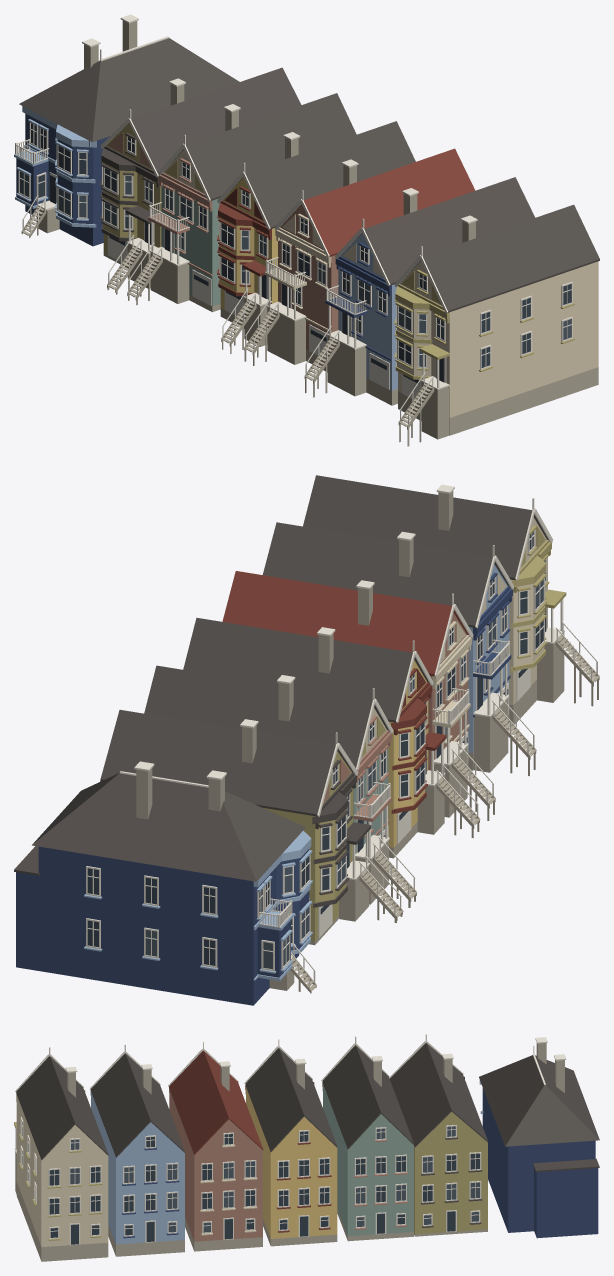
File: painted-ladies-near.glb
The picture shows the model from 3 angles, top to bottom: view 1: azimuth 30°, elevation 25°; view 2: azimuth 150°, elevation 25°; view 3: azimuth 270°, elevation 25°; orthographic projection. The views are drawn at different scales.
Visible parts, largest first — view 1: painted-ladies-0-roof, painted-ladies-0-trim, painted-ladies-0-cream, painted-ladies-0-base, painted-ladies-0-brick, painted-ladies-0-navy, painted-ladies-0-blue, painted-ladies-0-glass, painted-ladies-0-sage, painted-ladies-0-rose, painted-ladies-0-glow, painted-ladies-0-celadon (+1 smaller); view 2: painted-ladies-0-roof, painted-ladies-0-navy, painted-ladies-0-trim, painted-ladies-0-base, painted-ladies-0-brick, painted-ladies-0-sage, painted-ladies-0-glass, painted-ladies-0-blue, painted-ladies-0-cream, painted-ladies-0-rose, painted-ladies-0-glow, painted-ladies-0-yellow (+1 smaller); view 3: painted-ladies-0-roof, painted-ladies-0-navy, painted-ladies-0-trim, painted-ladies-0-cream, painted-ladies-0-rose, painted-ladies-0-blue, painted-ladies-0-base, painted-ladies-0-celadon, painted-ladies-0-sage, painted-ladies-0-yellow, painted-ladies-0-glass, painted-ladies-0-brick (+1 smaller).
Boxes of the visible parts, x1,y1,x2,y2 form: painted-ladies-0-roof: (19,38,599,312); painted-ladies-0-trim: (15,14,572,424); painted-ladies-0-cream: (163,149,598,417); painted-ladies-0-base: (21,20,598,446); painted-ladies-0-brick: (217,148,475,303); painted-ladies-0-navy: (16,114,391,360); painted-ladies-0-blue: (14,106,397,390); painted-ladies-0-glass: (31,123,571,383); painted-ladies-0-sage: (103,123,574,387); painted-ladies-0-rose: (108,132,338,350); painted-ladies-0-glow: (19,171,571,366); painted-ladies-0-celadon: (161,183,220,306); painted-ladies-0-roof: (14,475,549,907); painted-ladies-0-navy: (16,572,512,1005); painted-ladies-0-trim: (86,484,597,988); painted-ladies-0-base: (136,490,599,993); painted-ladies-0-brick: (222,571,469,813); painted-ladies-0-sage: (262,525,566,941); painted-ladies-0-glass: (87,532,546,965); painted-ladies-0-blue: (84,564,509,981); painted-ladies-0-cream: (361,517,547,765); painted-ladies-0-rose: (323,613,468,858); painted-ladies-0-glow: (145,560,545,969); painted-ladies-0-yellow: (388,660,428,847); painted-ladies-0-roof: (16,1043,599,1227); painted-ladies-0-navy: (90,1088,598,1238); painted-ladies-0-trim: (14,1034,566,1245); painted-ladies-0-cream: (16,1088,257,1247); painted-ladies-0-rose: (169,1082,408,1241); painted-ladies-0-blue: (91,1080,483,1244); painted-ladies-0-base: (15,1043,564,1261); painted-ladies-0-celadon: (323,1084,413,1236); painted-ladies-0-sage: (14,1090,487,1240); painted-ladies-0-yellow: (246,1087,337,1238); painted-ladies-0-glass: (22,1122,479,1244); painted-ladies-0-brick: (169,1050,331,1232).
Bounding box in the file's own units: 24.72 × 15.12 × 54.28.
